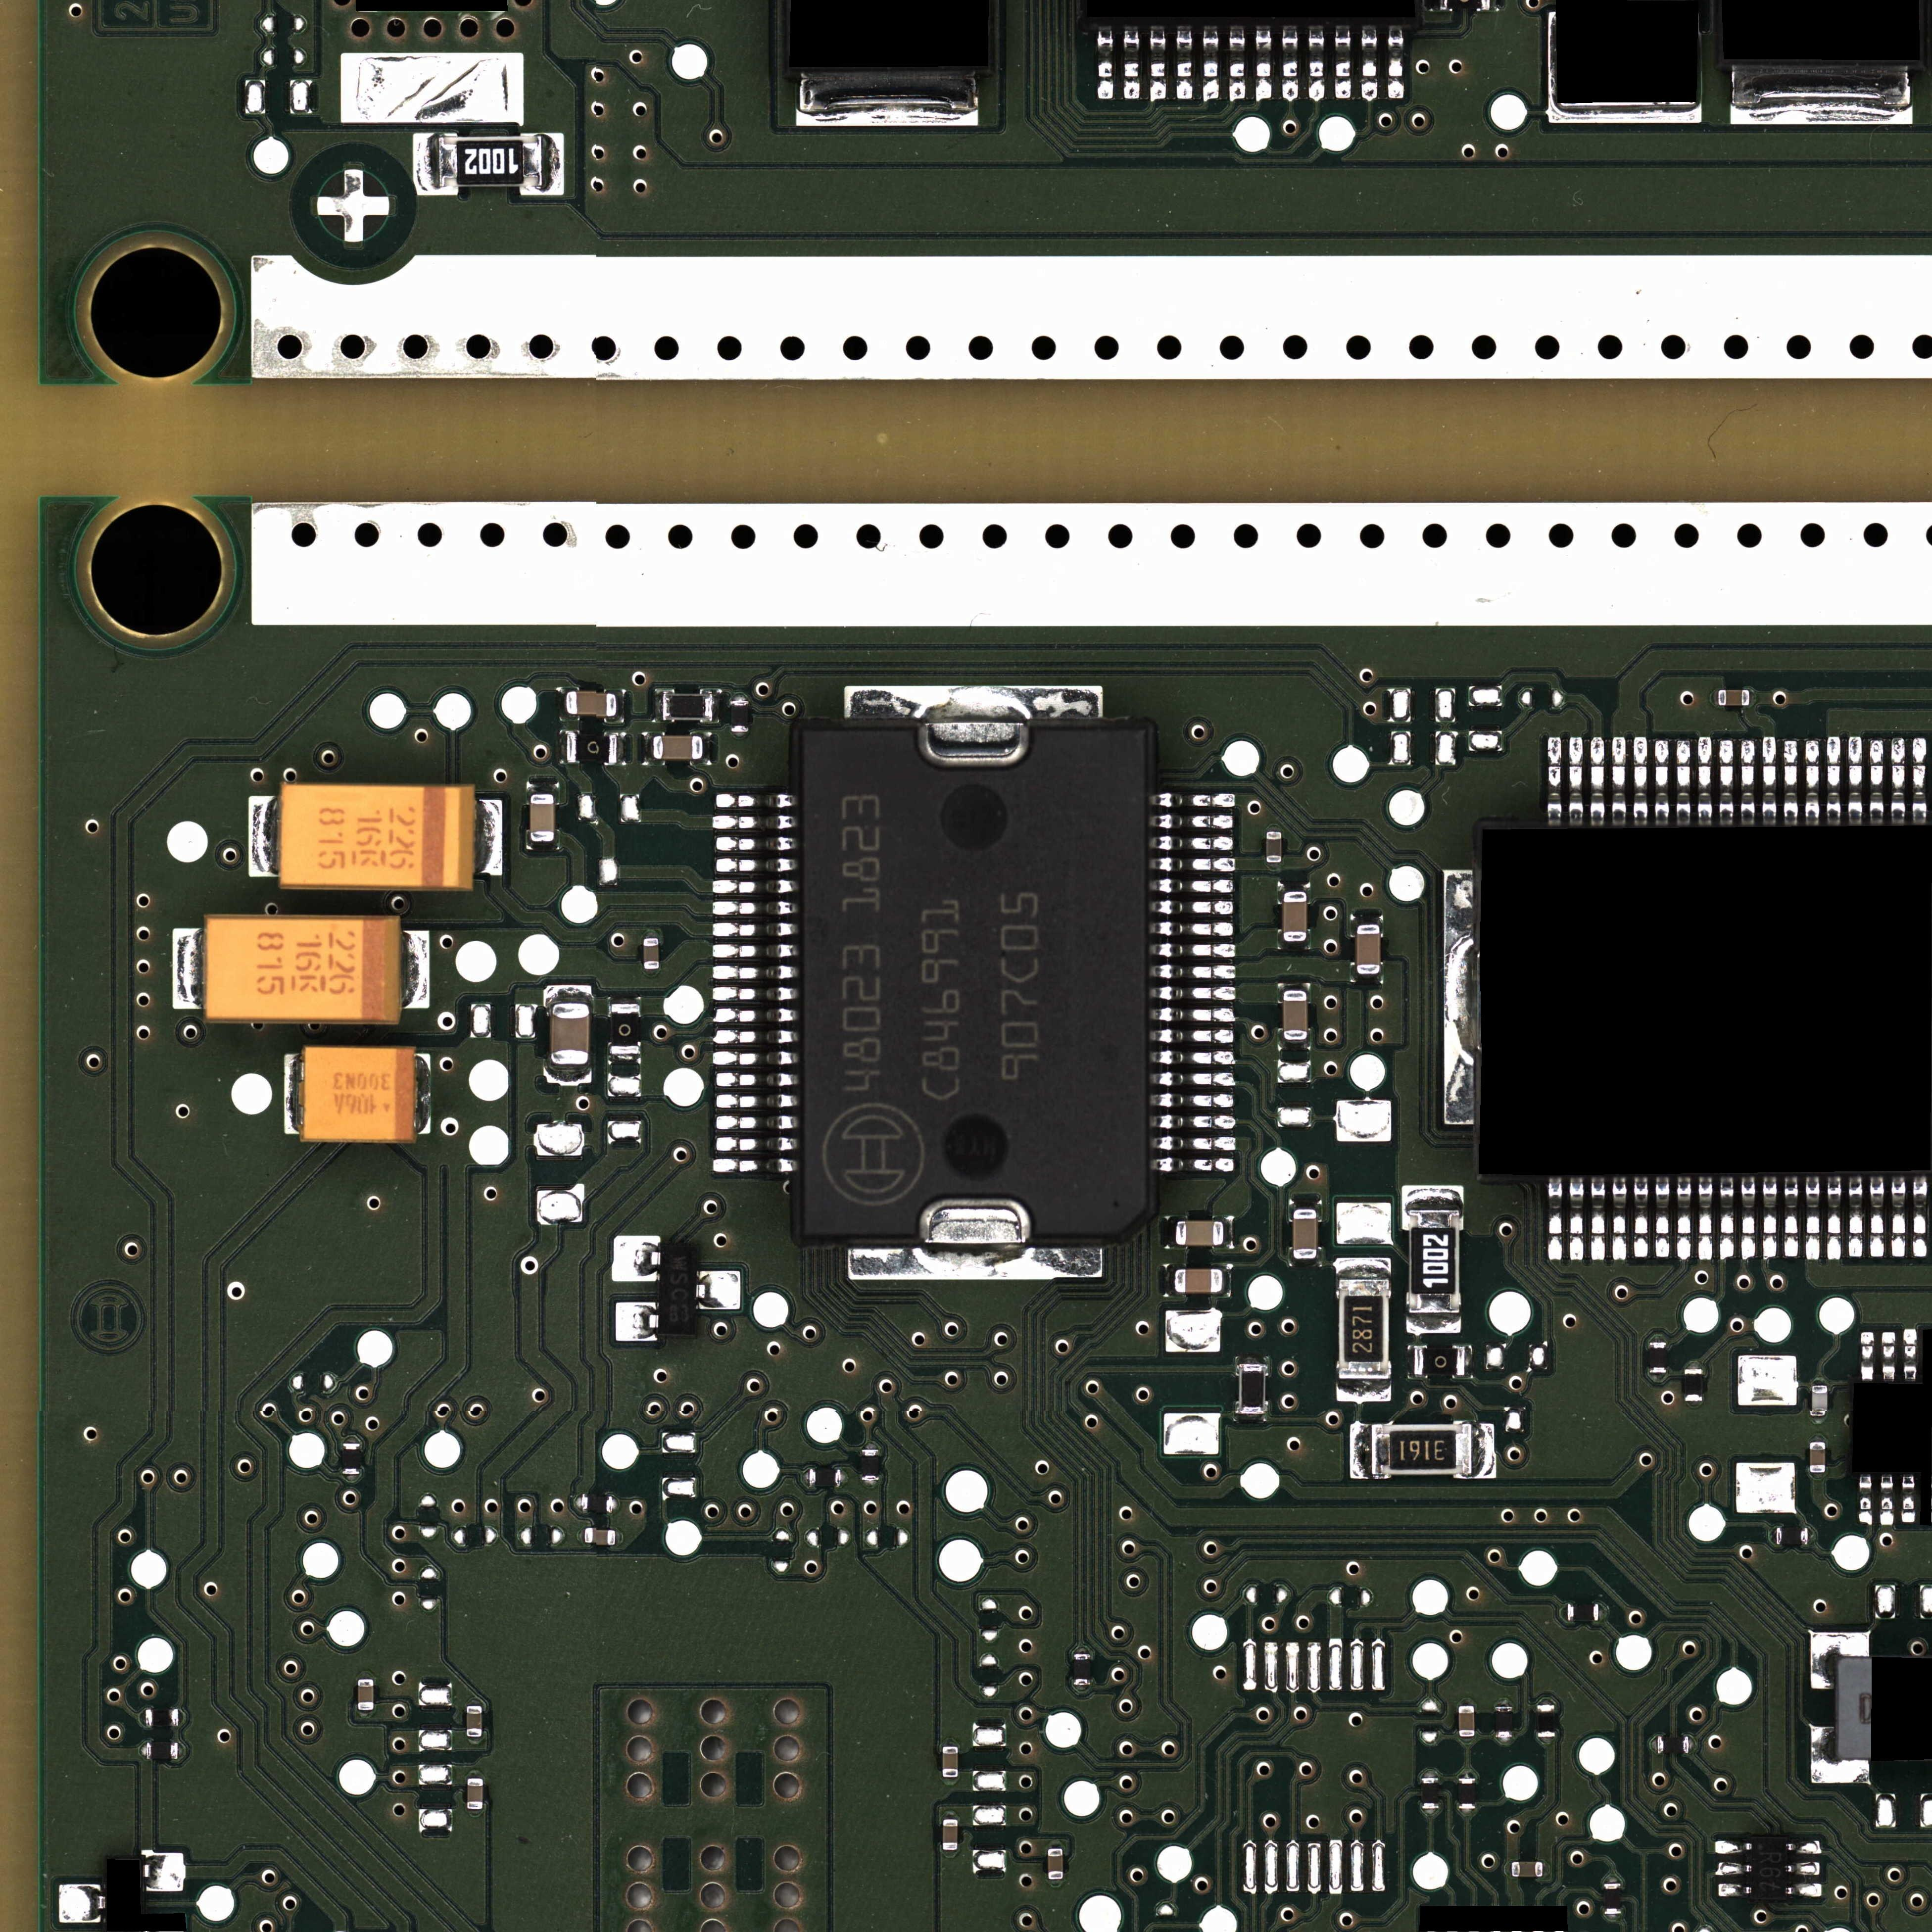Package: (801, 729, 1146, 1237), (205, 918, 400, 1021), (281, 786, 472, 890), (304, 1047, 414, 1141), (1407, 1210, 1461, 1313), (439, 136, 541, 188), (1371, 1424, 1472, 1476), (1338, 1279, 1389, 1378), (662, 1246, 695, 1336), (550, 1003, 591, 1065), (1752, 1836, 1787, 1898), (566, 734, 617, 763), (610, 1003, 639, 1054), (1414, 1348, 1465, 1376), (663, 694, 713, 720), (1238, 1364, 1265, 1414), (566, 692, 616, 717), (1283, 892, 1307, 941), (1355, 925, 1380, 975), (1283, 991, 1307, 1040), (1175, 1221, 1223, 1246), (1175, 1269, 1223, 1293), (653, 736, 702, 759), (1293, 1210, 1316, 1260), (531, 794, 554, 842), (731, 701, 750, 732), (145, 1709, 179, 1727), (341, 1444, 361, 1474), (1072, 1654, 1092, 1684), (809, 1468, 840, 1486), (147, 1743, 179, 1760), (862, 1449, 879, 1481), (1537, 1706, 1555, 1737), (1603, 1882, 1621, 1914), (1776, 1527, 1808, 1545), (1684, 1369, 1702, 1401), (582, 1495, 612, 1513), (1421, 1778, 1438, 1808), (1649, 1343, 1667, 1373), (1458, 1778, 1476, 1808), (1568, 1603, 1598, 1621), (1495, 1707, 1513, 1737), (1718, 690, 1750, 706), (1658, 1737, 1690, 1753), (1511, 1861, 1543, 1877), (467, 1778, 483, 1808), (943, 1746, 959, 1776), (357, 1679, 373, 1709), (586, 1529, 616, 1545), (1047, 1849, 1063, 1879), (1810, 1442, 1826, 1472), (1812, 1385, 1828, 1415), (644, 938, 658, 970), (467, 1706, 481, 1737), (943, 1819, 957, 1851), (1267, 832, 1281, 863), (1460, 1706, 1474, 1736)
Solder: (1729, 73, 1916, 126), (794, 78, 980, 126), (844, 686, 1102, 718), (847, 1249, 1104, 1281), (1810, 1629, 1872, 1690), (1808, 1725, 1870, 1785), (248, 796, 281, 878), (173, 929, 205, 1008), (1546, 108, 1702, 124), (402, 929, 430, 1008), (474, 800, 502, 876), (612, 1237, 660, 1281), (142, 1851, 188, 1893), (57, 1882, 104, 1923), (1629, 734, 1651, 824), (1093, 27, 1116, 104), (1674, 736, 1693, 826), (1695, 736, 1714, 826), (616, 1302, 660, 1341), (695, 1270, 740, 1309), (1909, 736, 1928, 824), (1888, 736, 1907, 824), (1845, 736, 1865, 824), (1803, 736, 1822, 824), (1759, 736, 1778, 824), (1545, 736, 1564, 824), (283, 1054, 304, 1134), (1867, 738, 1886, 824), (1780, 738, 1799, 824), (1716, 738, 1736, 824), (1200, 27, 1221, 104), (1146, 27, 1168, 104), (1175, 27, 1196, 104), (1610, 734, 1628, 826), (1359, 27, 1380, 103), (1306, 27, 1327, 103), (1279, 27, 1300, 103), (1253, 27, 1274, 103), (1826, 736, 1844, 826), (1739, 736, 1757, 826), (1652, 736, 1670, 826), (1568, 734, 1585, 824), (414, 133, 439, 196), (1332, 27, 1353, 101), (1589, 736, 1606, 824), (1385, 27, 1407, 99), (1401, 1185, 1463, 1210), (1228, 27, 1247, 104), (1122, 27, 1141, 104), (713, 1007, 798, 1024), (1150, 1070, 1235, 1088), (1697, 1177, 1714, 1261), (1718, 1177, 1736, 1261), (1739, 1177, 1757, 1261), (1760, 1177, 1778, 1261), (1826, 1177, 1844, 1261), (713, 814, 796, 832), (1546, 1178, 1564, 1261), (1568, 1178, 1585, 1261), (1589, 1178, 1606, 1261), (1675, 1178, 1693, 1261), (1654, 1177, 1672, 1260), (1633, 1177, 1651, 1260), (1782, 1177, 1799, 1260), (1868, 1177, 1886, 1260), (1847, 1177, 1865, 1260), (1805, 1177, 1822, 1260), (1911, 1177, 1928, 1260), (1891, 1177, 1909, 1260), (414, 1053, 432, 1134), (711, 901, 798, 916), (711, 922, 798, 938), (711, 964, 798, 980), (1150, 964, 1237, 980), (1150, 1136, 1237, 1152), (1150, 985, 1237, 1001), (1150, 1049, 1237, 1065), (1150, 1115, 1237, 1131), (1150, 1007, 1237, 1023), (713, 943, 798, 959), (713, 1157, 798, 1173), (713, 1030, 798, 1046), (713, 985, 798, 1001), (713, 1051, 798, 1067), (1150, 899, 1235, 915), (1150, 793, 1235, 809), (1150, 856, 1235, 872), (1150, 835, 1235, 851), (1150, 943, 1235, 959), (1150, 814, 1235, 830), (1150, 1028, 1235, 1044), (1150, 1093, 1235, 1109), (1612, 1177, 1628, 1261), (715, 856, 798, 872), (713, 879, 796, 895), (715, 1136, 798, 1152), (715, 1093, 798, 1109), (715, 1072, 798, 1088), (715, 1115, 798, 1131), (1150, 920, 1233, 936), (1152, 1157, 1235, 1173), (543, 133, 564, 195), (1336, 1380, 1392, 1403), (1472, 1422, 1495, 1479), (715, 793, 796, 809), (1152, 878, 1233, 893), (1350, 1422, 1371, 1479), (715, 837, 798, 851), (1336, 1258, 1391, 1279), (1407, 1313, 1461, 1334), (1902, 1327, 1920, 1382), (1881, 1327, 1898, 1382), (1859, 1327, 1877, 1382), (1858, 1474, 1875, 1527), (1877, 1474, 1895, 1527), (545, 1065, 593, 1085), (1900, 1474, 1918, 1525), (543, 985, 593, 1003), (1714, 1840, 1750, 1854), (1787, 1882, 1822, 1897), (1787, 1840, 1822, 1854), (1787, 1861, 1821, 1875), (1718, 1882, 1752, 1897), (1716, 1863, 1750, 1875), (642, 732, 653, 764), (527, 782, 559, 793), (1164, 1265, 1175, 1297), (525, 842, 559, 851), (1350, 975, 1384, 984), (1224, 1215, 1233, 1249), (1233, 1414, 1267, 1422), (1235, 1355, 1269, 1364), (1166, 1215, 1175, 1249), (1277, 1040, 1311, 1049), (1465, 1345, 1474, 1378), (617, 732, 626, 764), (653, 690, 662, 722), (557, 688, 566, 720), (702, 732, 711, 764), (616, 690, 625, 722), (713, 690, 722, 722), (609, 1054, 640, 1063), (1277, 941, 1309, 950), (1352, 915, 1384, 924), (1277, 883, 1309, 892), (1223, 1265, 1231, 1297), (1290, 1200, 1322, 1208), (1277, 982, 1309, 991), (1407, 1345, 1414, 1378), (559, 731, 566, 763), (609, 996, 640, 1003), (1290, 1260, 1322, 1267), (343, 1435, 361, 1444), (341, 1474, 361, 1481), (731, 694, 750, 701), (1684, 1362, 1704, 1369), (357, 1709, 375, 1716), (179, 1709, 186, 1727), (179, 1743, 186, 1760), (731, 732, 748, 740), (642, 931, 660, 938), (642, 970, 660, 977), (862, 1442, 879, 1449), (941, 1739, 959, 1746), (941, 1812, 959, 1819), (575, 1493, 582, 1511), (941, 1778, 959, 1785), (862, 1481, 879, 1488), (616, 1529, 623, 1546), (1421, 1771, 1438, 1778), (1422, 1808, 1440, 1815), (1684, 1401, 1702, 1408), (1649, 1373, 1667, 1380), (1649, 1336, 1667, 1343), (1560, 1605, 1568, 1622), (1458, 1698, 1476, 1706), (1537, 1737, 1555, 1744), (1458, 1808, 1476, 1815), (1495, 1698, 1513, 1706), (1458, 1771, 1476, 1778), (1651, 1736, 1658, 1753), (1495, 1737, 1513, 1744), (1603, 1875, 1621, 1882), (1769, 1527, 1776, 1545), (357, 1672, 373, 1679), (467, 1698, 483, 1706), (467, 1771, 483, 1778), (140, 1743, 147, 1759), (467, 1810, 483, 1817), (941, 1851, 957, 1858), (840, 1470, 847, 1486), (612, 1497, 619, 1513), (1265, 863, 1281, 870), (1074, 1645, 1090, 1652), (1047, 1881, 1063, 1888), (1074, 1686, 1090, 1693), (1750, 690, 1757, 706), (1711, 690, 1718, 706), (1810, 1435, 1826, 1442), (1812, 1378, 1828, 1385), (1460, 1737, 1476, 1744), (1605, 1914, 1621, 1921), (1599, 1605, 1606, 1621), (1506, 1861, 1513, 1877), (1810, 1472, 1826, 1479), (1543, 1861, 1550, 1877), (1267, 824, 1281, 832), (140, 1709, 145, 1727), (1690, 1736, 1695, 1753), (1808, 1527, 1813, 1545), (1537, 1698, 1555, 1704), (467, 1737, 483, 1743), (579, 1527, 584, 1543), (803, 1470, 809, 1486), (1047, 1842, 1063, 1847), (1810, 1417, 1826, 1422)
